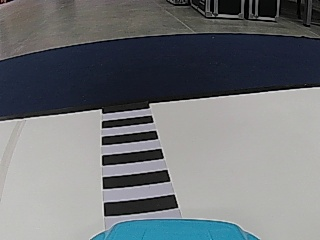CrossWalk: (98, 105, 180, 217)
